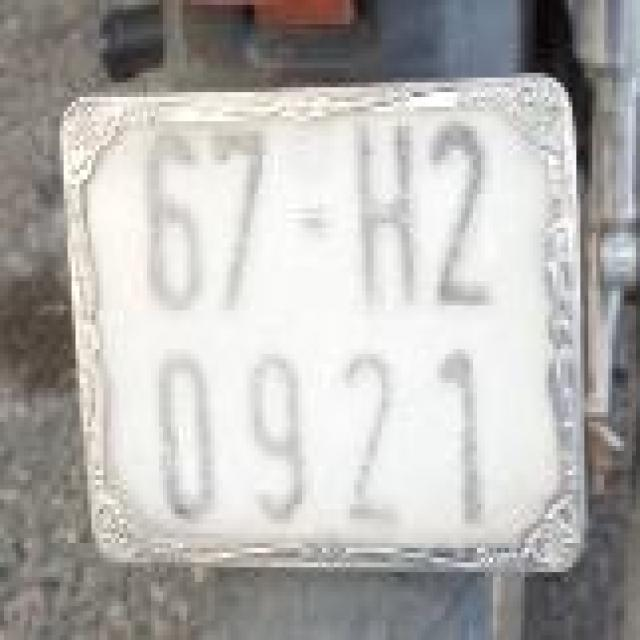0: (135, 337, 235, 575)
1: (441, 344, 497, 568)
2: (425, 102, 517, 339), (348, 349, 419, 572)
6: (113, 102, 209, 330)
7: (209, 114, 280, 337)
9: (235, 337, 318, 570)
H: (316, 116, 423, 334)
